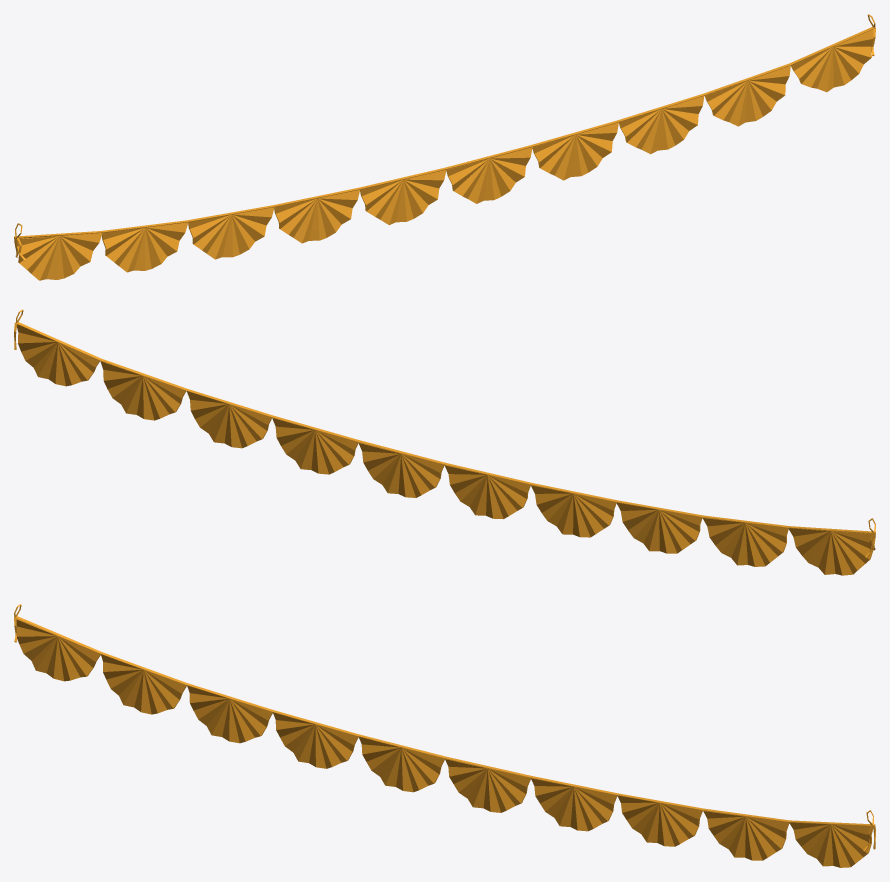
Rendered from SM_Garland_Round_5m_4july.fbx.
The picture shows the model from 3 angles, top to bottom: view 1: azimuth 30°, elevation 25°; view 2: azimuth 150°, elevation 25°; view 3: azimuth 330°, elevation 25°; orthographic projection.
Parts seen in each view (by area): view 1: garland-round-5m-4july; view 2: garland-round-5m-4july; view 3: garland-round-5m-4july.
Part boxes in pixels (x1,y1,x2,y2): garland-round-5m-4july: (14, 14, 875, 280); garland-round-5m-4july: (14, 309, 875, 575); garland-round-5m-4july: (14, 604, 875, 867).
Size of the model in its own units: 5 by 0.5146 by 0.092.
